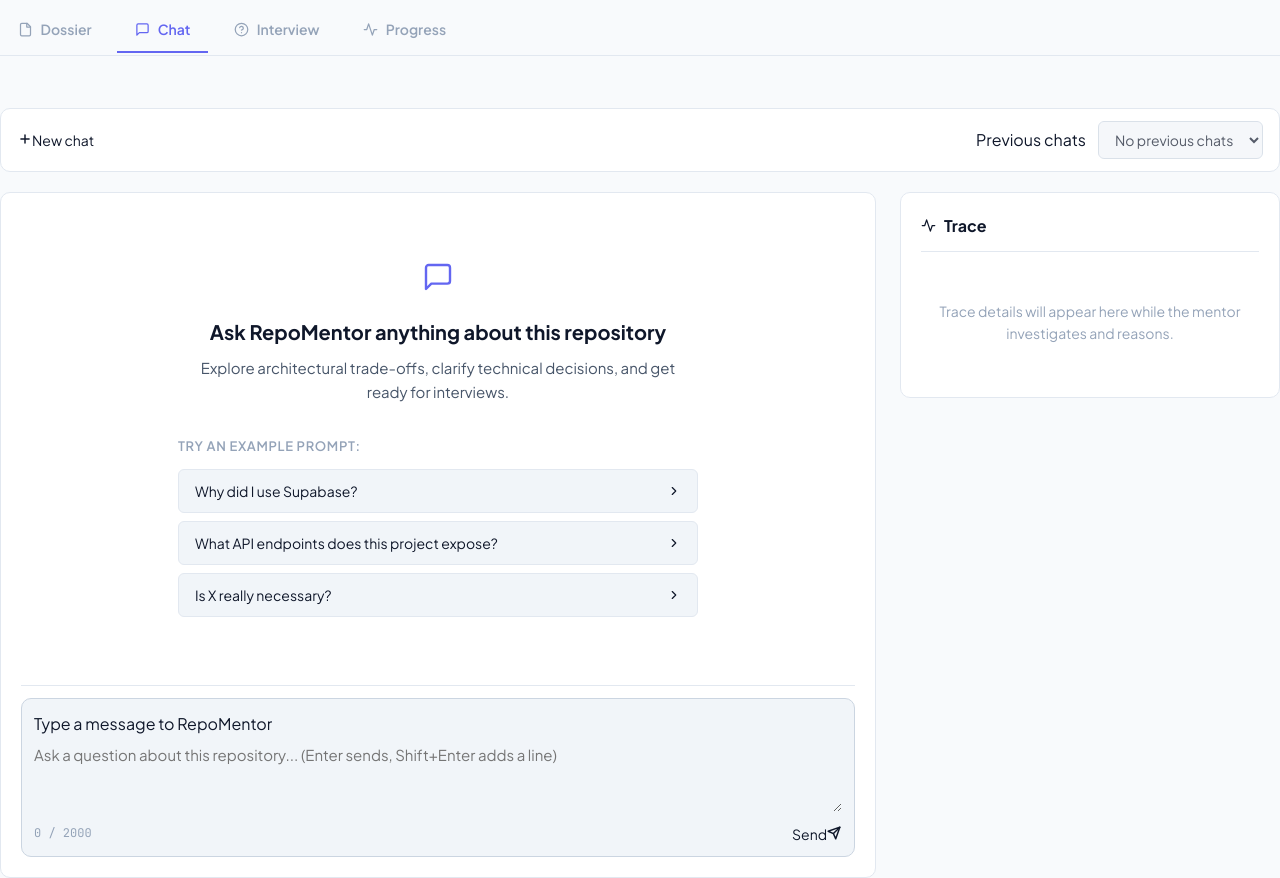
ChatPage › shows steps as they arrive and keeps them after the answer
(page scrolled)
Replace the text in the text box with placeholder "Ask a question about this repository" with "What APIs exist?": point(438, 778) [34,744,842,812]
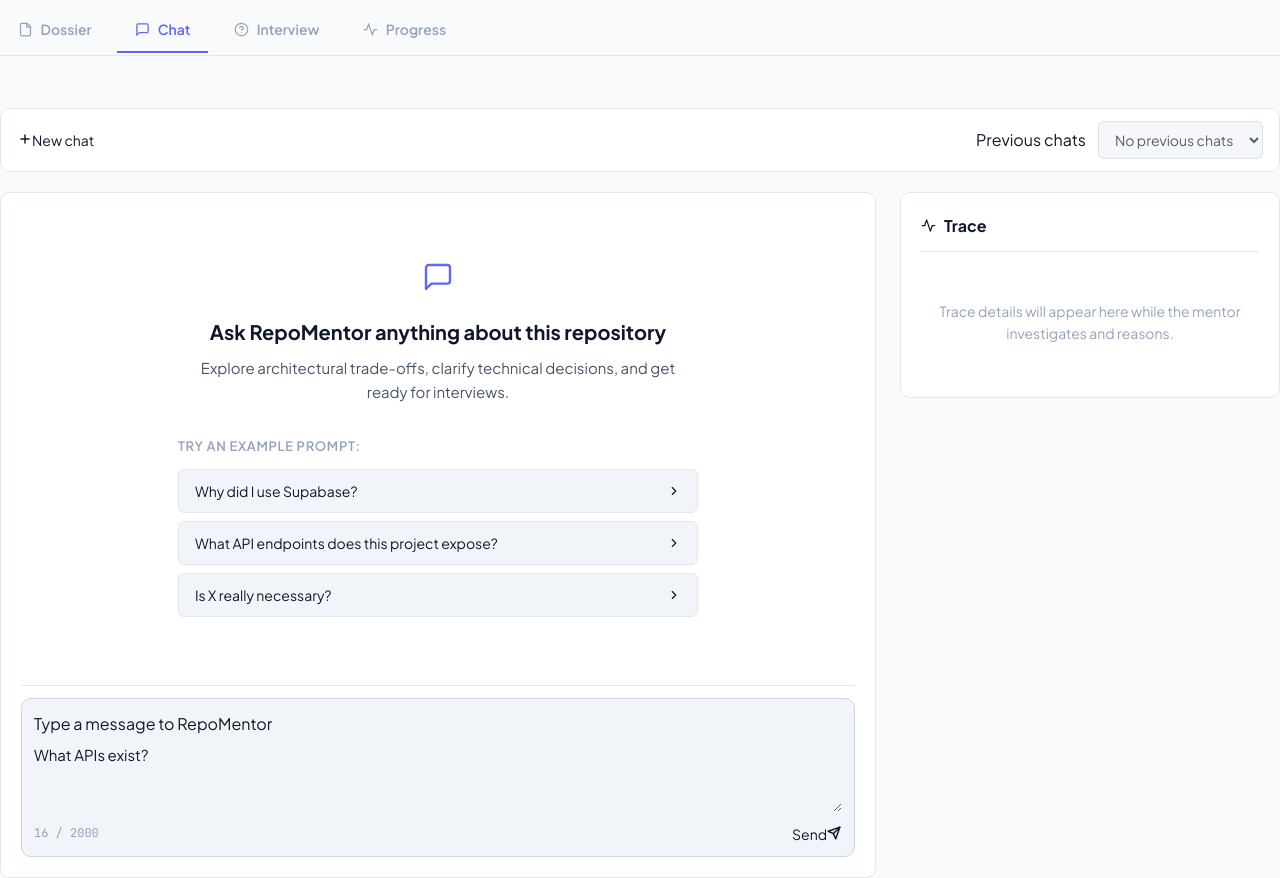
Click the button "Send": point(816, 834) [791,824,842,844]
(page scrolled)
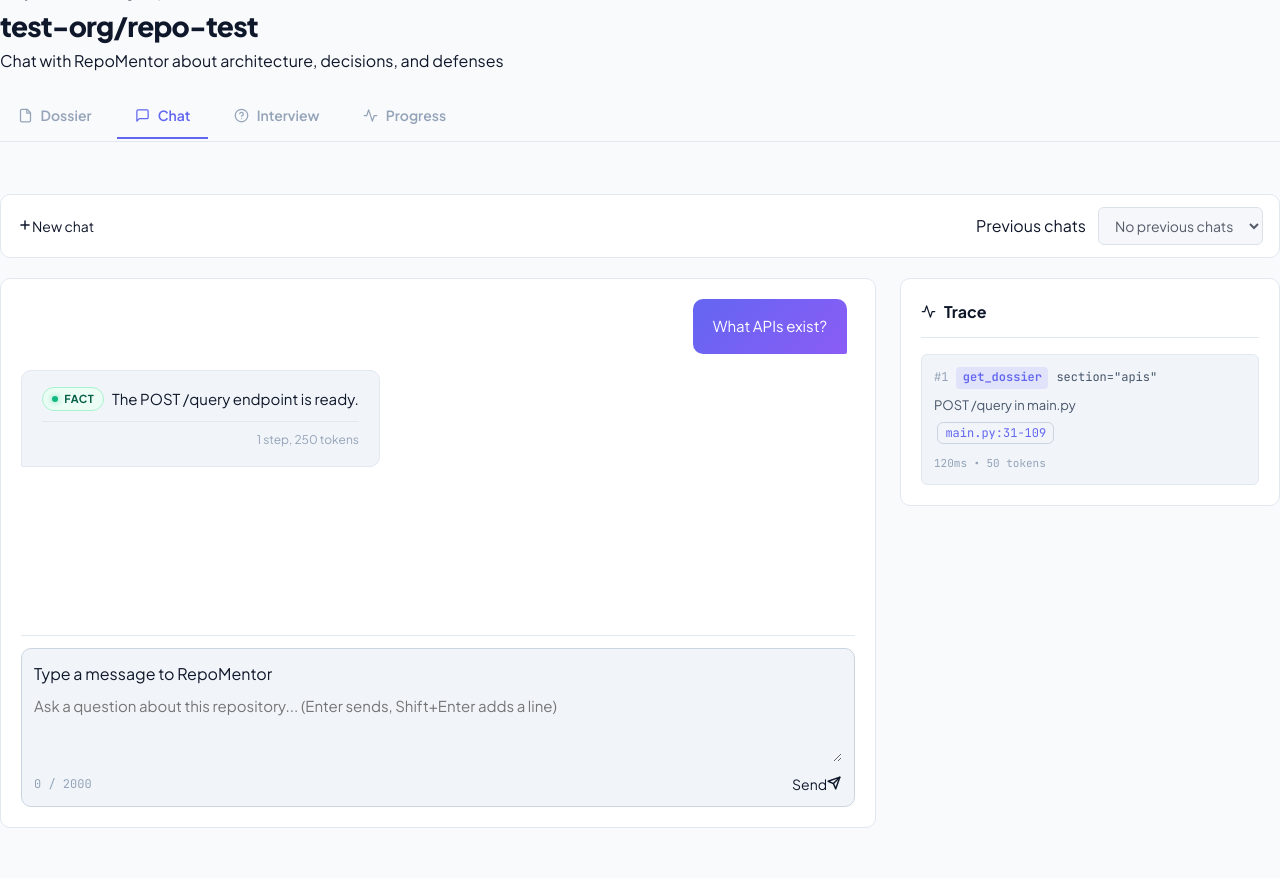
Result: the text "The POST /query endpoint is ready." is shown at [112,387,359,411]
Result: the text "get_dossier" is shown at [956,367,1048,389]
Result: the text "POST /query in main.py" is shown at [934,397,1076,413]
